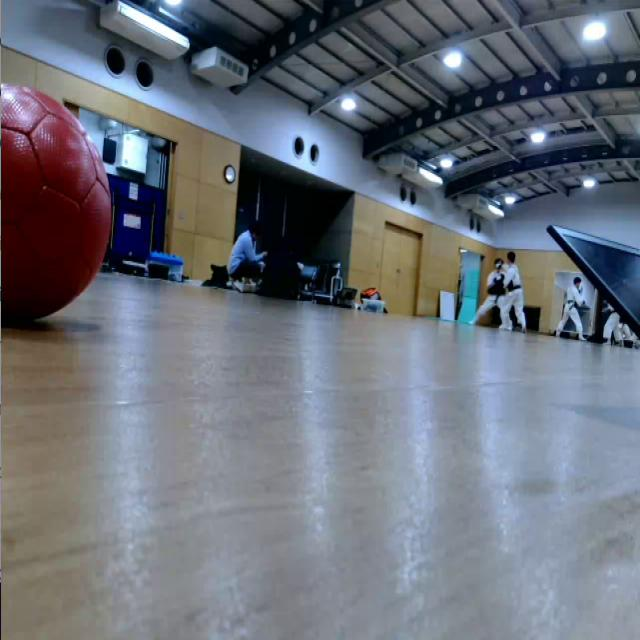red_ball: (0, 80, 113, 323)
